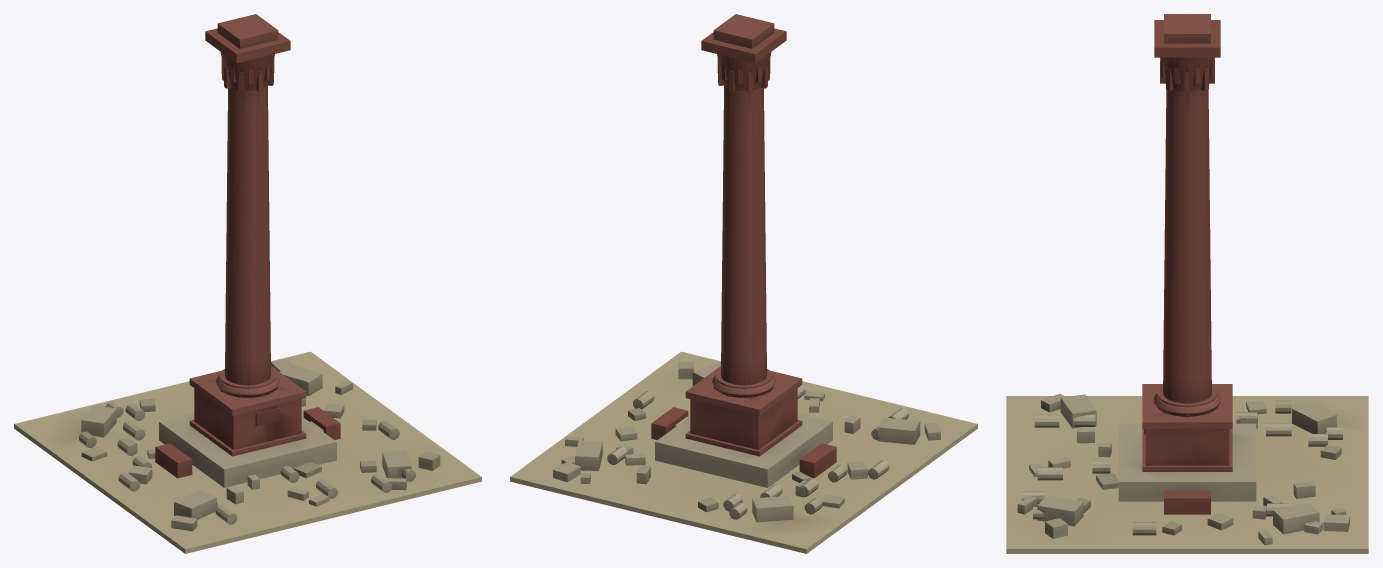
Rendered from pompeys-pillar.glb.
3 views of the same model, side by side, from view 1: azimuth 30°, elevation 25°; view 2: azimuth 150°, elevation 25°; view 3: azimuth 270°, elevation 25° (orthographic). The views are drawn at different scales.
Visible parts, largest first — view 1: p0_base, p1_shaft, p2_top; view 2: p0_base, p1_shaft, p2_top; view 3: p0_base, p1_shaft, p2_top.
Part boxes in pixels (<box>): p0_base: <box>14,351,481,553</box>; p1_shaft: <box>205,28,290,397</box>; p2_top: <box>79,14,440,531</box>; p0_base: <box>510,351,977,553</box>; p1_shaft: <box>701,28,786,397</box>; p2_top: <box>553,14,940,522</box>; p0_base: <box>1006,384,1368,553</box>; p1_shaft: <box>1154,20,1220,417</box>; p2_top: <box>1017,14,1349,545</box>.
Size of the model in its own units: 20 by 27.6 by 20.
